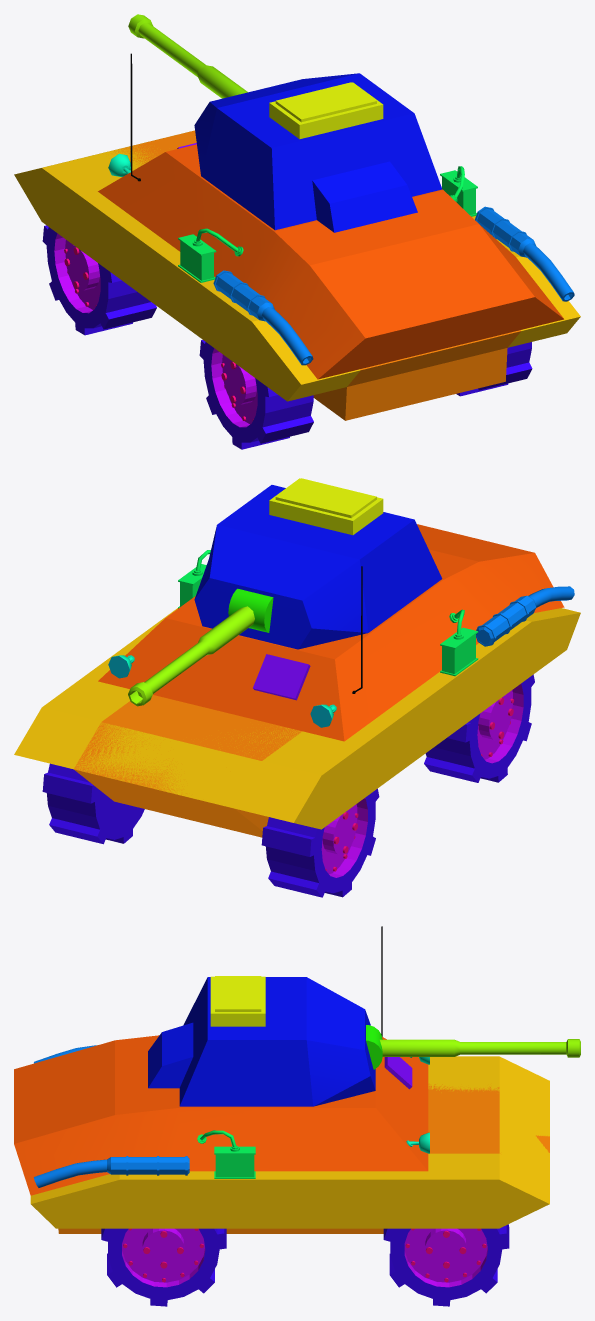
Rendered from Tank_P43.FBX.
3 views of the same model, one above another, from view 1: azimuth 30°, elevation 25°; view 2: azimuth 150°, elevation 25°; view 3: azimuth 270°, elevation 25° (orthographic). The views are drawn at different scales.
Parts seen in each view (by area): view 1: BadyPart2, Turret, BodyPart, BodyBottomPart, Wheel_b_left001, Wheel_f_left001, Tube (×2), TurretTop, Cube (×2), Canon, Wheel_b_right001; view 2: BodyPart, BadyPart2, Turret, BodyBottomPart, Wheel_f_left001, Wheel_b_left001, Wheel_f_right001, TurretTop, Canon, Cube (×2), Tube, Window (+1 smaller); view 3: BodyPart, BadyPart2, Turret, Wheel_f_right001, Wheel_b_right001, BodyBottomPart, Canon, TurretTop, Tube, Cube, Window, CanonPivotPoint.
Boxes of the visible parts, <box> form: BadyPart2: <box>98,144,563,379</box>; Turret: <box>194,73,442,232</box>; BodyPart: <box>14,131,580,401</box>; BodyBottomPart: <box>109,130,520,420</box>; Wheel_b_left001: <box>199,340,313,449</box>; Wheel_f_left001: <box>42,225,156,335</box>; Tube (×2): <box>213,206,574,365</box>; TurretTop: <box>269,82,383,139</box>; Cube (×2): <box>178,166,477,282</box>; Canon: <box>128,14,247,98</box>; Wheel_b_right001: <box>456,342,532,396</box>; BodyPart: <box>14,608,580,829</box>; BadyPart2: <box>98,524,564,741</box>; Turret: <box>194,485,442,649</box>; BodyBottomPart: <box>73,695,302,837</box>; Wheel_f_left001: <box>261,788,379,897</box>; Wheel_b_left001: <box>424,674,534,782</box>; Wheel_f_right001: <box>42,763,144,844</box>; TurretTop: <box>269,478,383,535</box>; Canon: <box>128,606,254,706</box>; Cube (×2): <box>178,550,478,676</box>; Tube: <box>476,586,574,646</box>; Window: <box>253,654,310,700</box>; BodyPart: <box>30,1056,549,1228</box>; BadyPart2: <box>14,1035,428,1195</box>; Turret: <box>148,977,375,1106</box>; Wheel_f_right001: <box>383,1224,509,1306</box>; Wheel_b_right001: <box>101,1228,226,1306</box>; BodyBottomPart: <box>58,1083,549,1233</box>; Canon: <box>380,1039,580,1057</box>; TurretTop: <box>210,976,265,1026</box>; Tube: <box>34,1156,189,1187</box>; Cube: <box>197,1130,255,1178</box>; Window: <box>384,1057,412,1089</box>; CanonPivotPoint: <box>366,1025,382,1069</box>.
Bounding box in the file's own units: 2.09 × 2.12 × 4.03.
